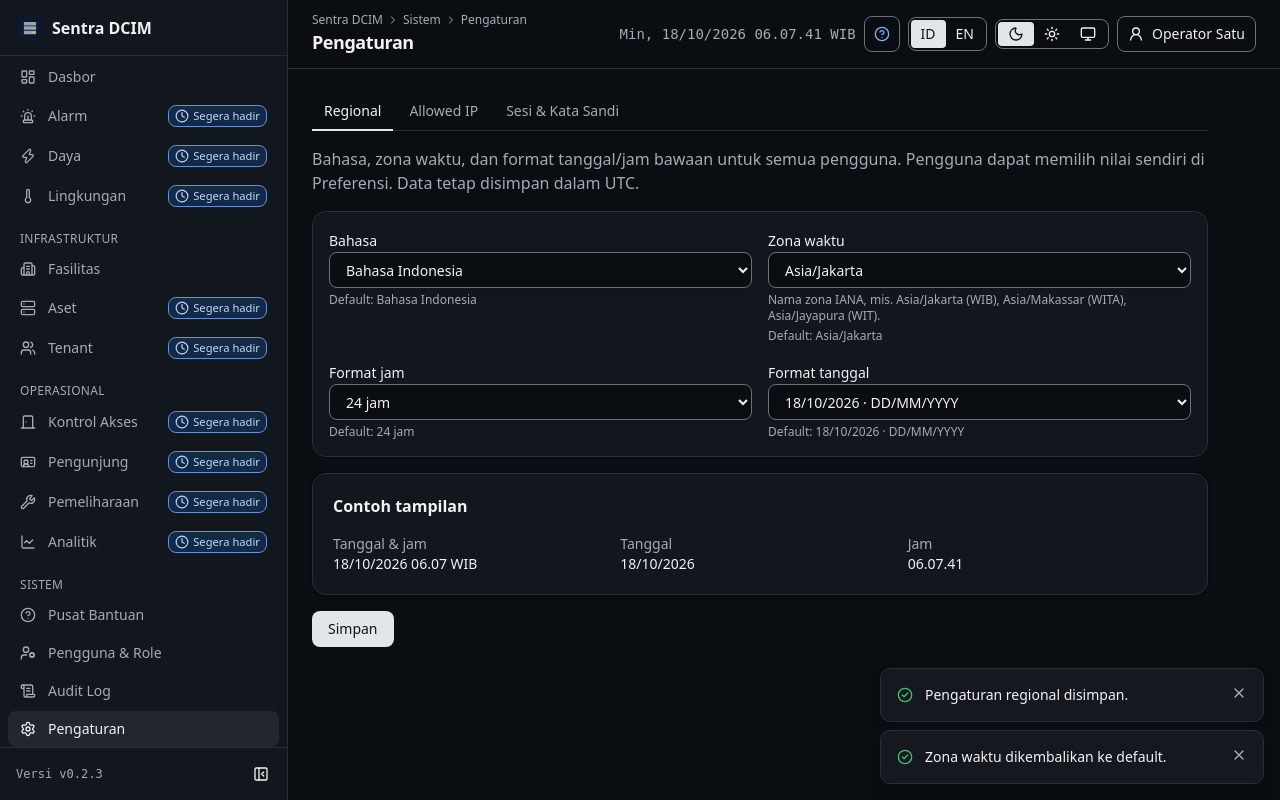
Test case: settings › regional › shows the server's validation error on the field
The width and height of the screenshot is (1280, 800).
(page scrolled)
Select "UTC" in the dropdown with test id "regional-timezone" at (980, 270), box [768,252,1191,288]
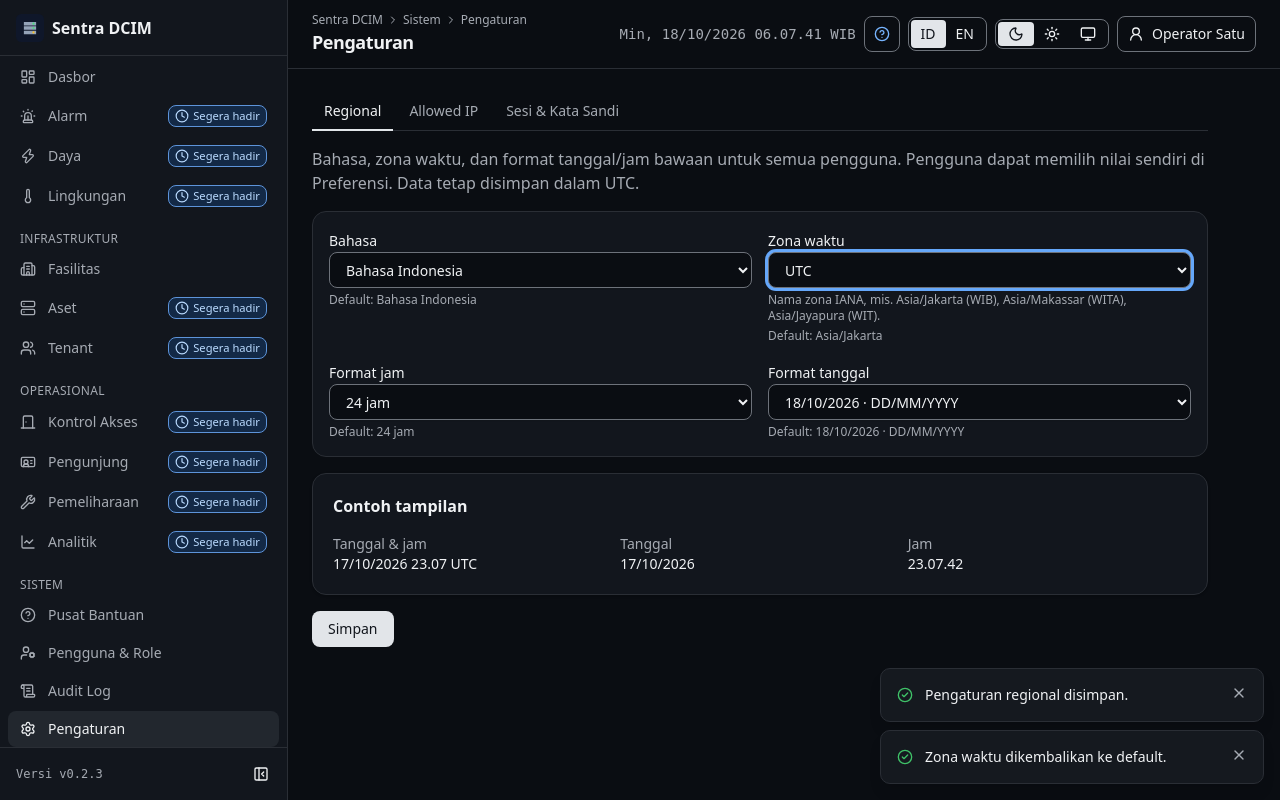
Click the button with test id "settings-save".
click(353, 629)  # box [312,611,394,647]
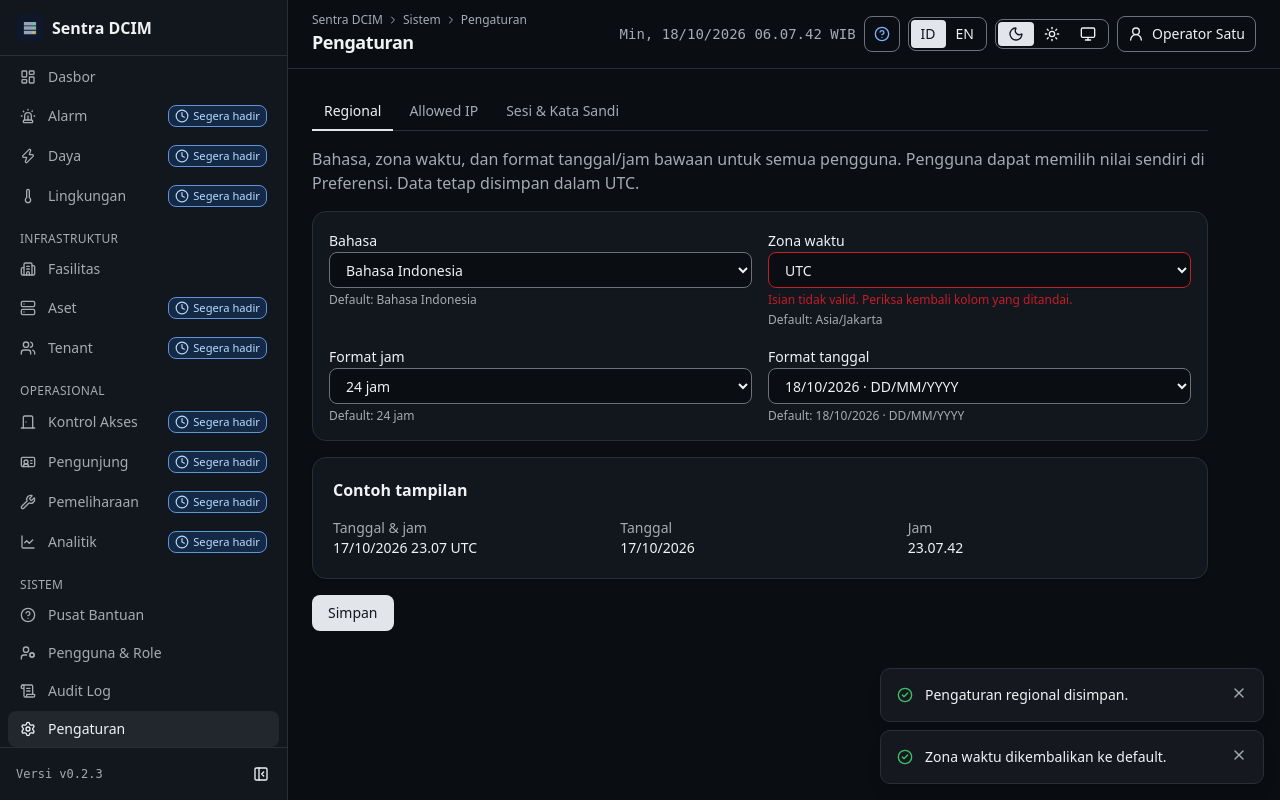
Now the message "Isian tidak valid. Periksa kembali kolom yang ditandai." is shown, box [768,291,1072,308]
